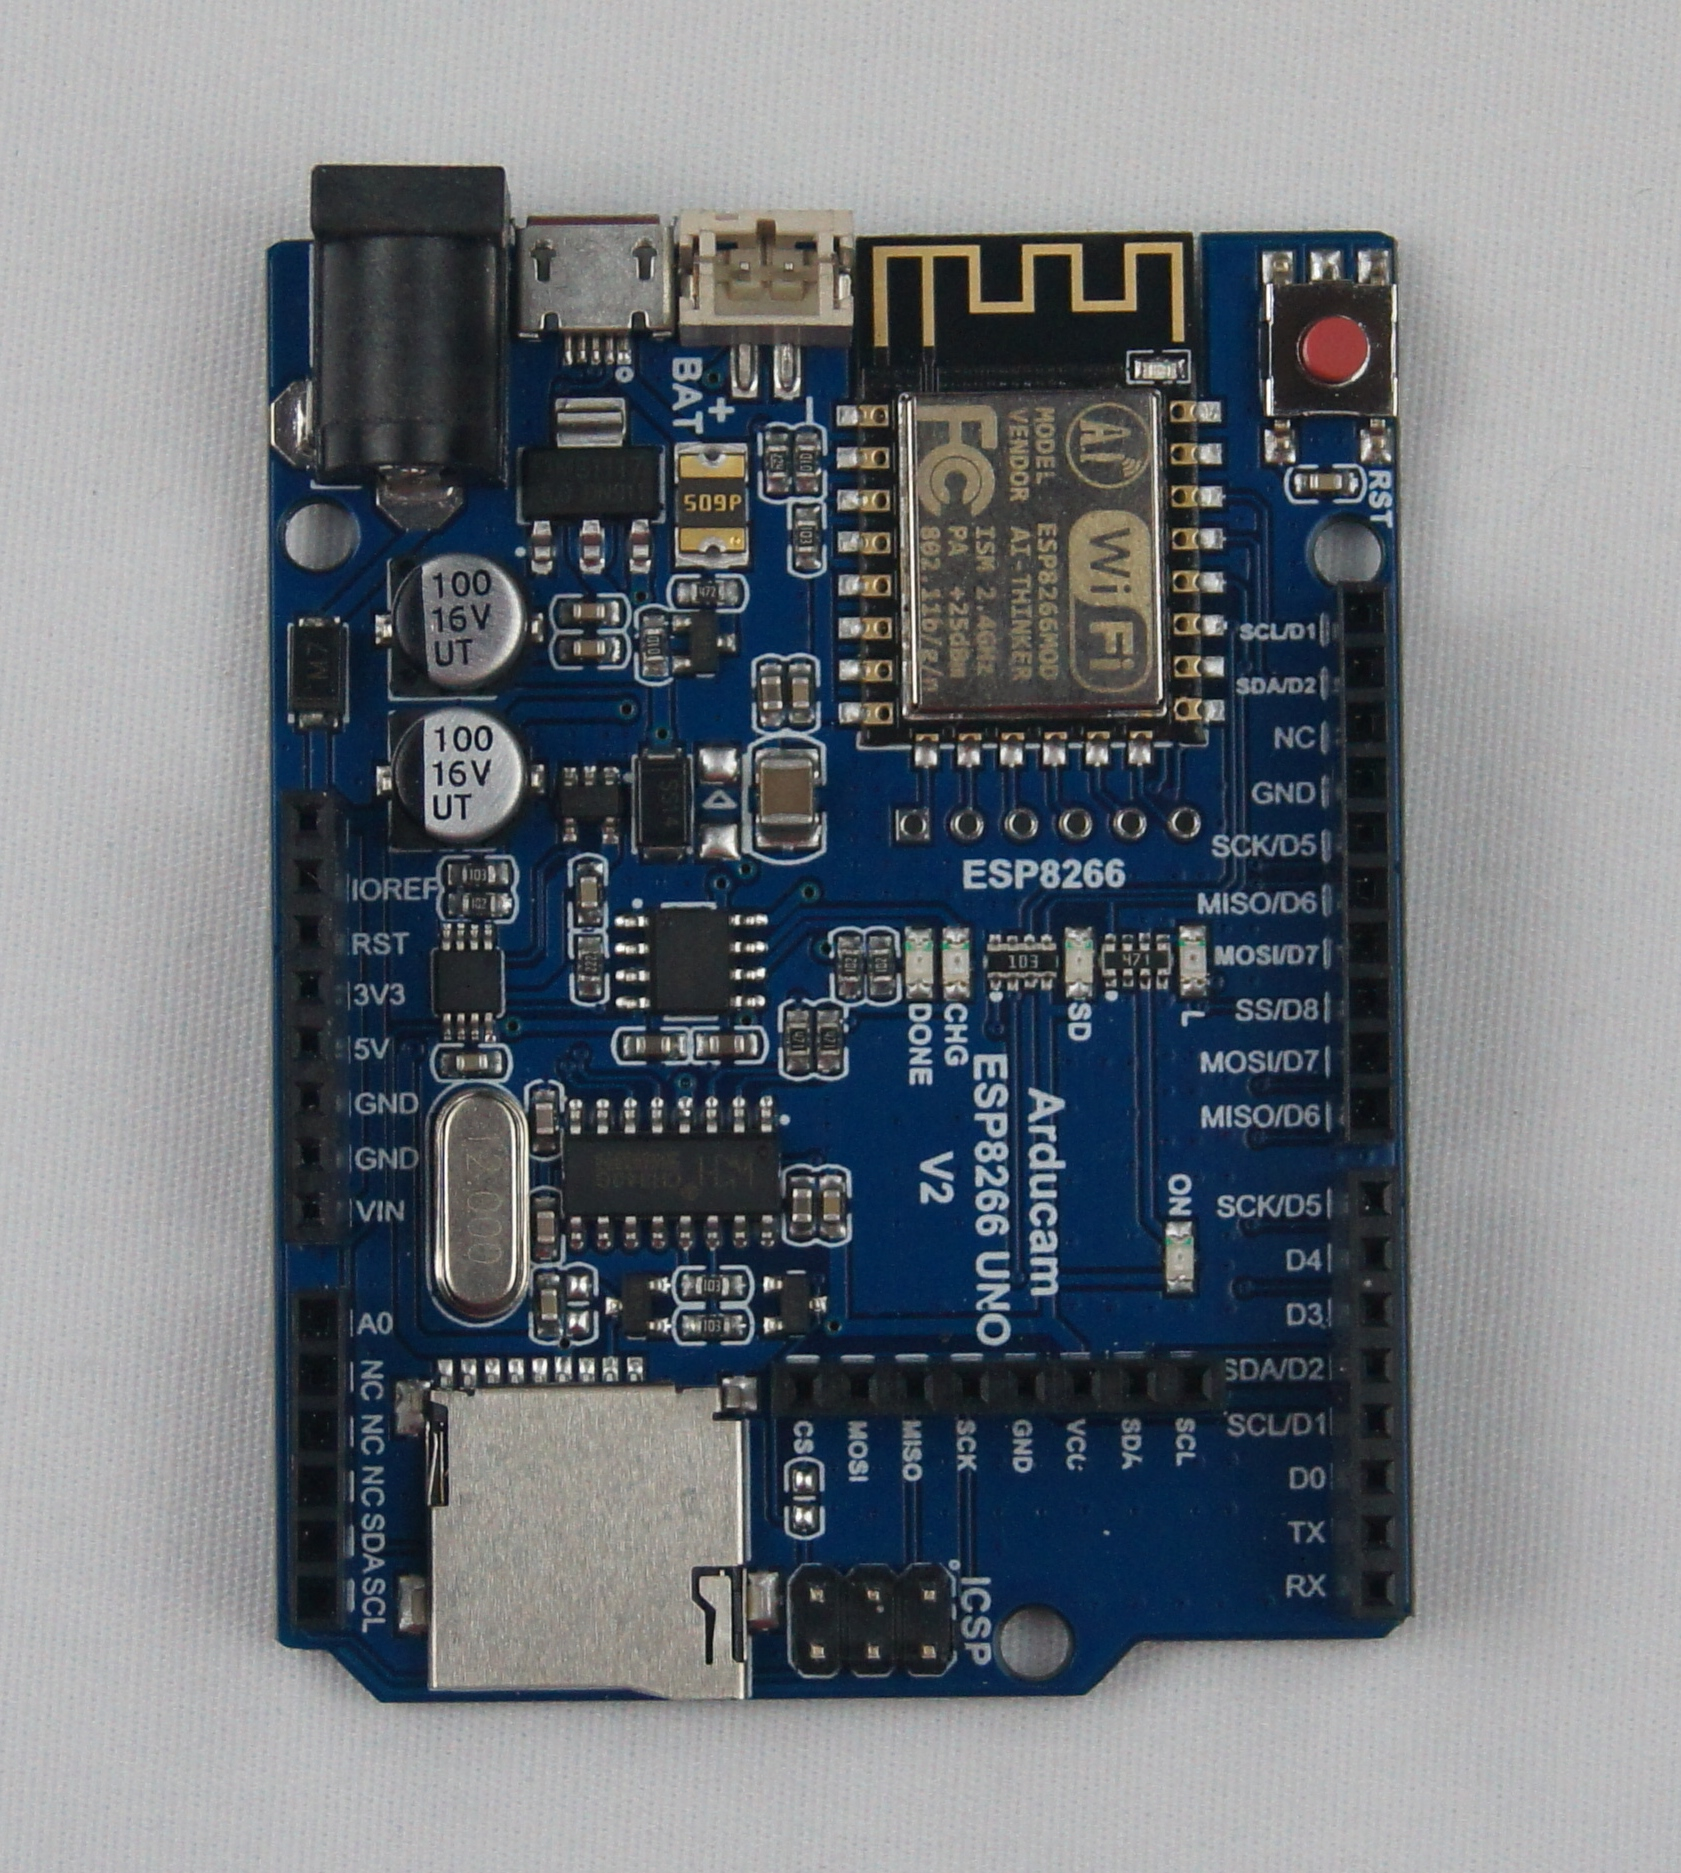kondensator: (385, 552, 526, 683), (383, 709, 526, 839), (673, 441, 750, 557), (755, 745, 828, 854), (753, 661, 785, 722), (789, 662, 819, 726), (527, 1091, 561, 1147), (816, 1177, 845, 1242), (1296, 467, 1360, 495), (787, 1177, 815, 1237), (561, 597, 625, 623), (534, 1277, 561, 1336), (532, 1199, 563, 1251), (574, 867, 604, 917), (445, 1048, 500, 1074), (560, 638, 618, 661)
